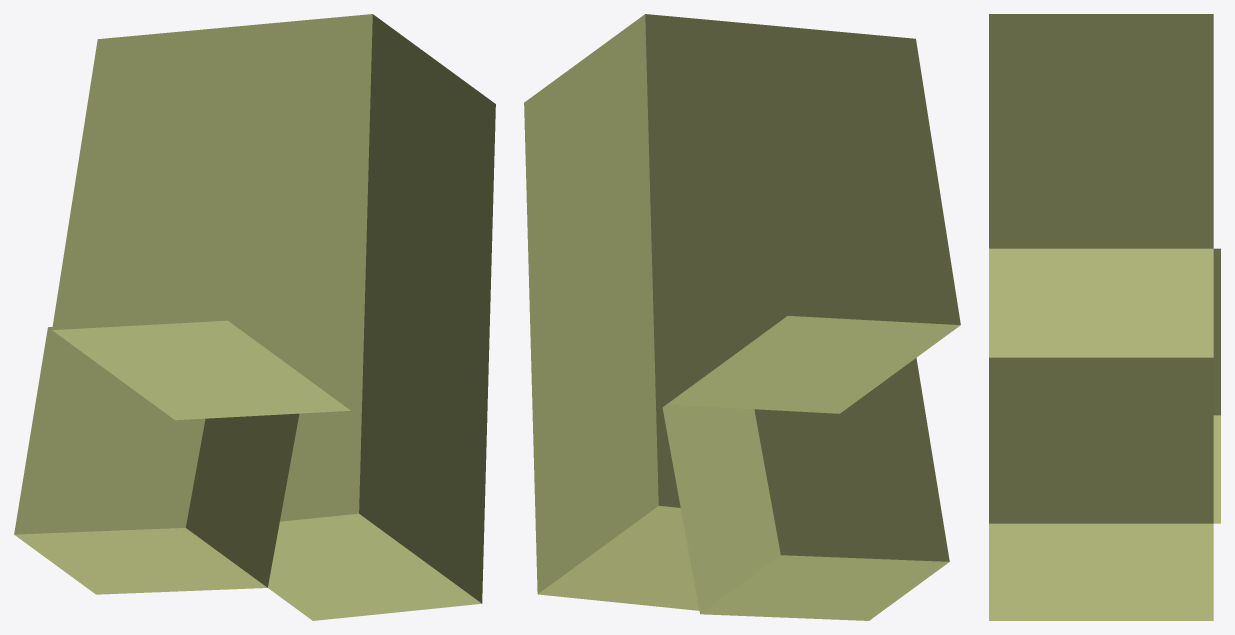
3 renders of one model, left to right at view 1: azimuth 30°, elevation 25°; view 2: azimuth 150°, elevation 25°; view 3: azimuth 270°, elevation 25°, orthographic. The views are drawn at different scales.
Visible parts, largest first — view 1: 0_1_0_0_2_0_1_1_2_1; view 2: 0_1_0_0_2_0_1_1_2_1; view 3: 0_1_0_0_2_0_1_1_2_1.
Boxes of the visible parts, box(x1,y1,x2,y2) form: 0_1_0_0_2_0_1_1_2_1: box(14, 14, 495, 620); 0_1_0_0_2_0_1_1_2_1: box(524, 14, 960, 620); 0_1_0_0_2_0_1_1_2_1: box(989, 14, 1220, 620).
Bounding box in the file's own units: 14.96 × 21.7 × 9.3.
